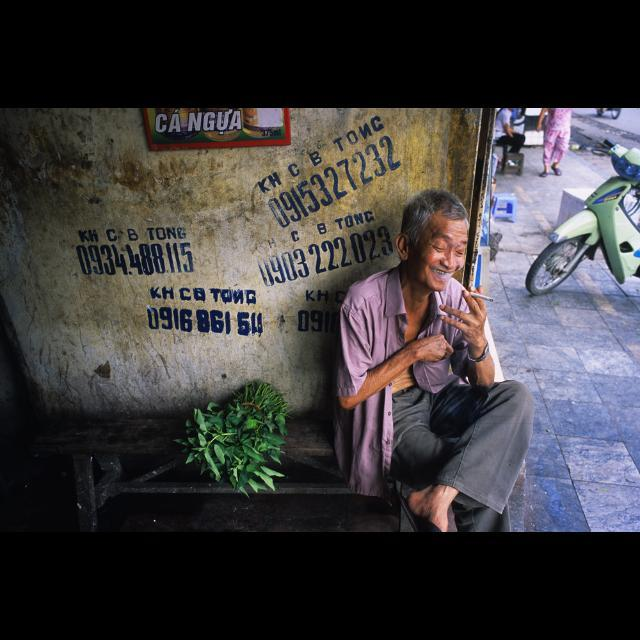rokok: (464, 286, 500, 306)
